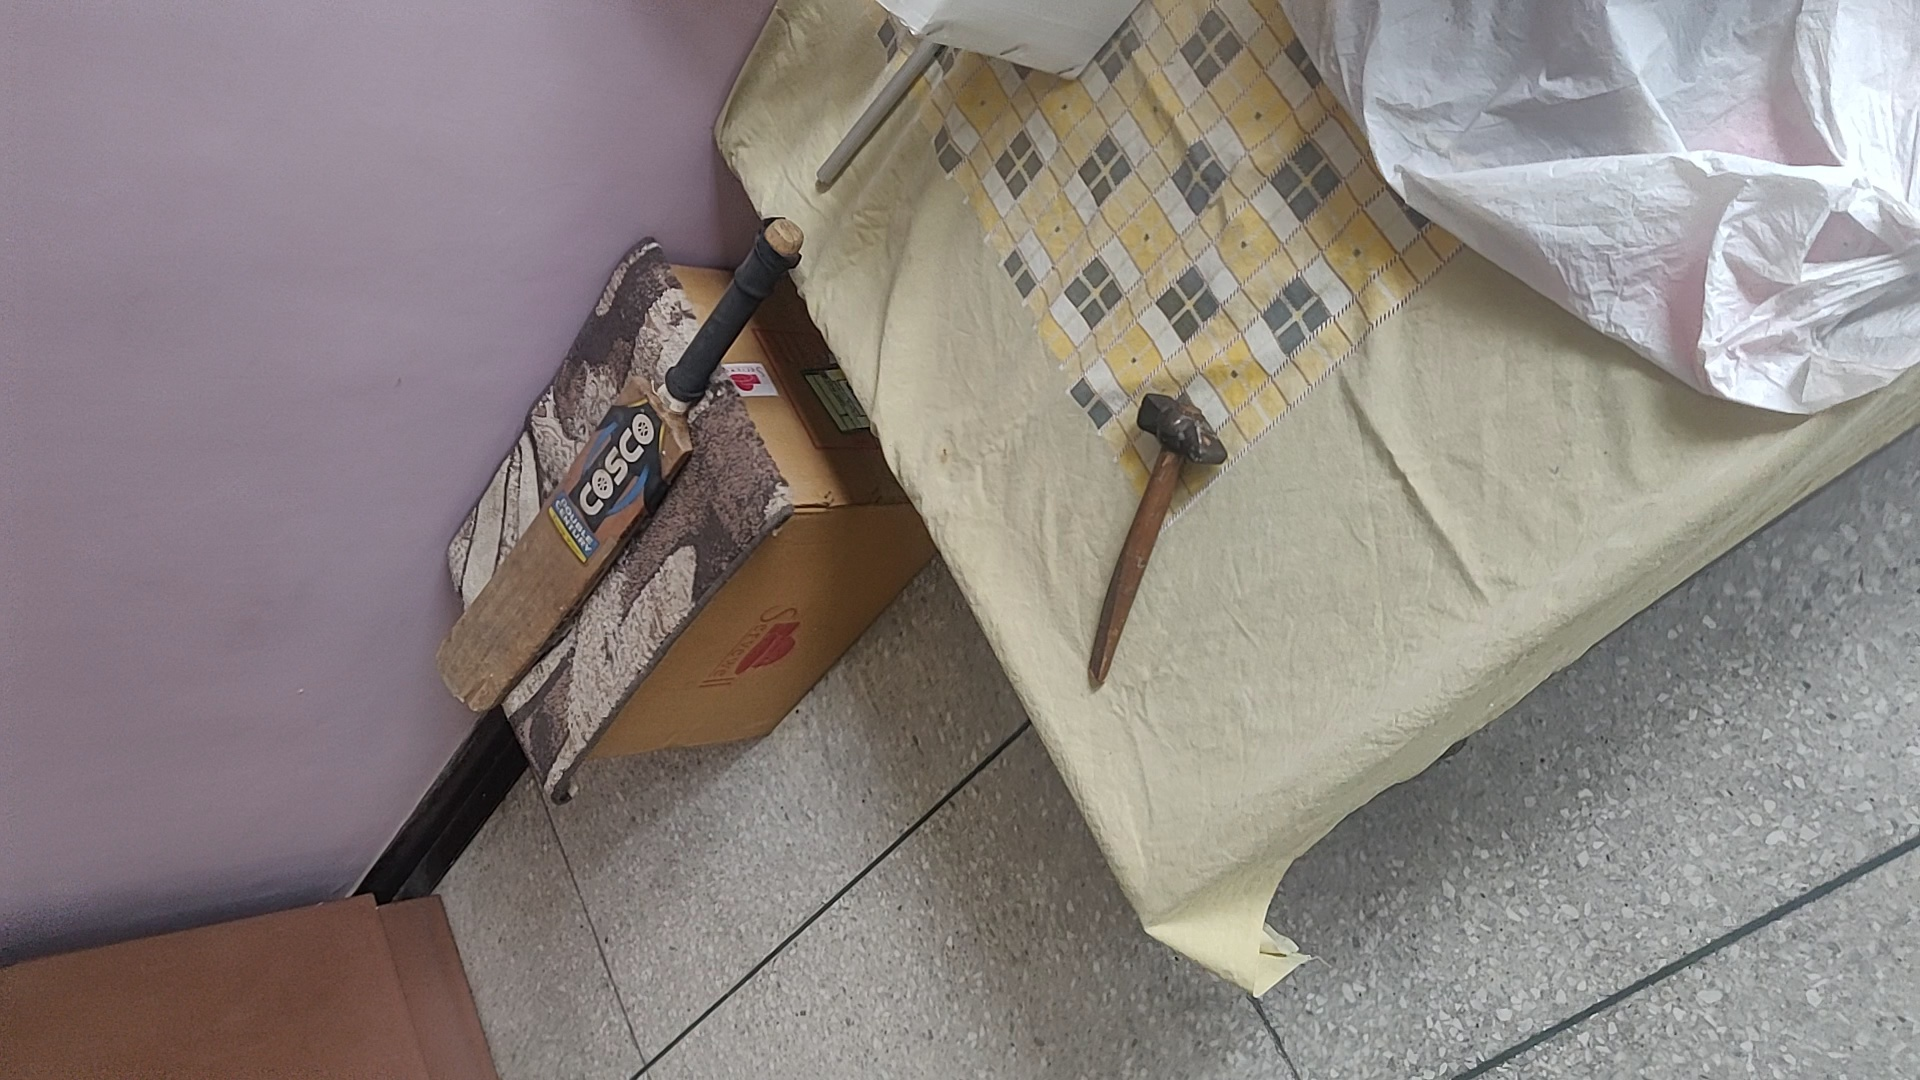hammer: (1073, 390, 1224, 694)
